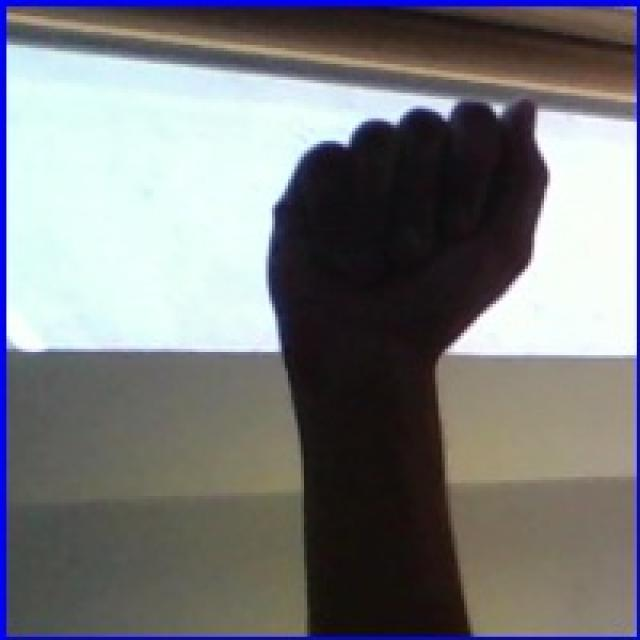A: (224, 74, 575, 636)
